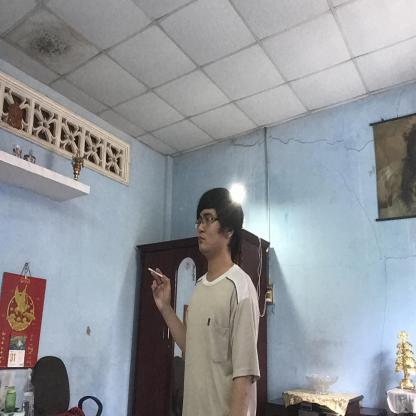cigarette: (148, 267, 164, 278)
person: (144, 186, 265, 416)
